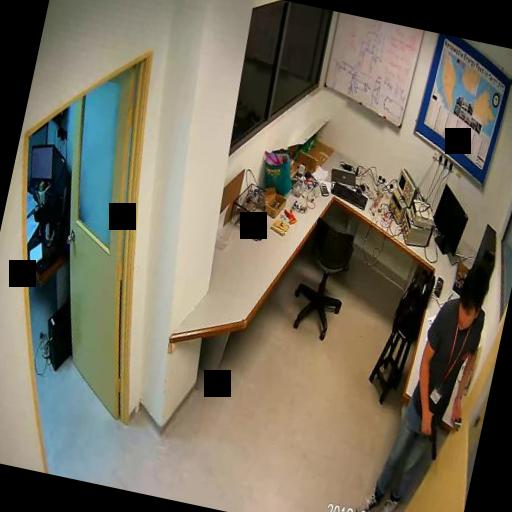Handgun: (411, 408, 444, 460)
